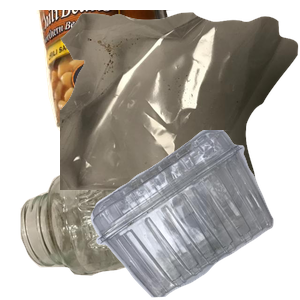glass: (18, 143, 227, 300)
metal: (34, 10, 213, 135)
plastic: (88, 130, 300, 300)
trash: (60, 10, 300, 190)
